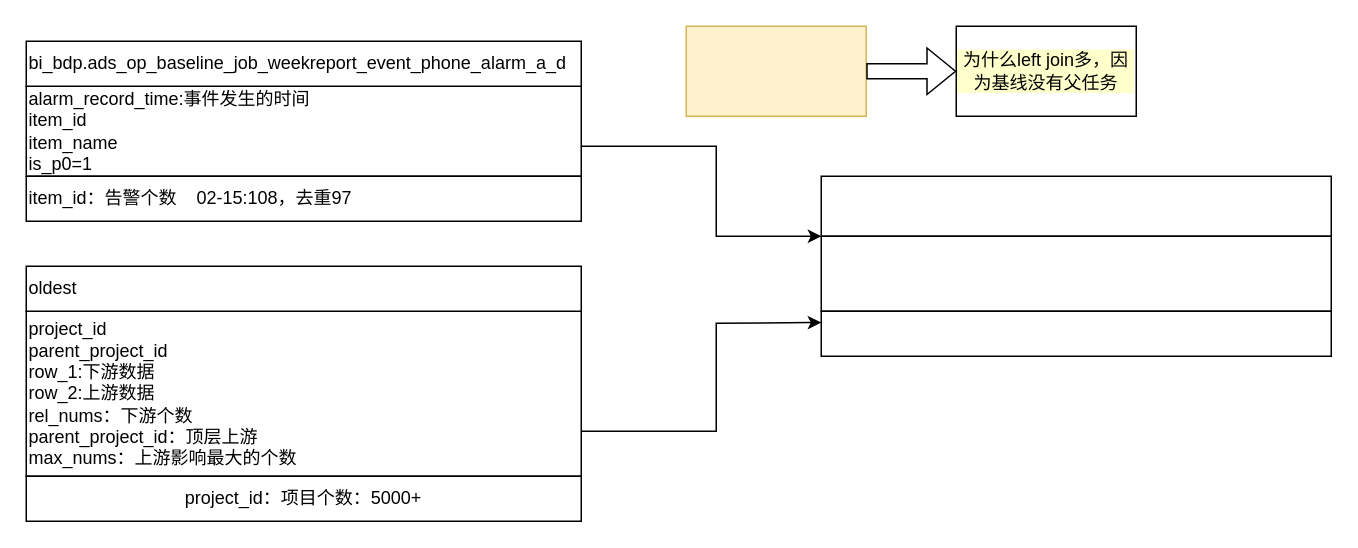
The diagram is 1358 pixels wide and 548 high, and some of its shapes have lost their labels. The shapes that lost their labels are listed below. From the top down, each one's centre as x and y in pixels, then its label:
At point 775,70: "left_join：245 join：219".
At point 1075,205: "alarm_item_parent_rel".
At point 1075,273: "item_id parent_project_id".
At point 1075,333: "item_id：？？？".
